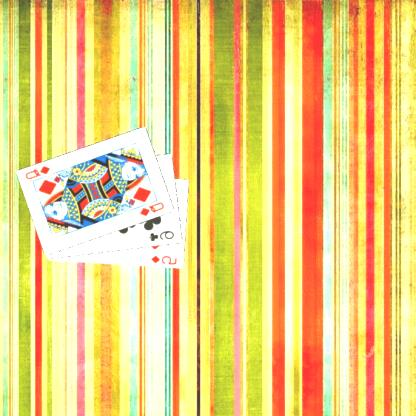5D: (150, 253, 180, 266)
9C: (148, 228, 177, 243)
QD: (24, 163, 53, 181), (139, 200, 167, 218)
